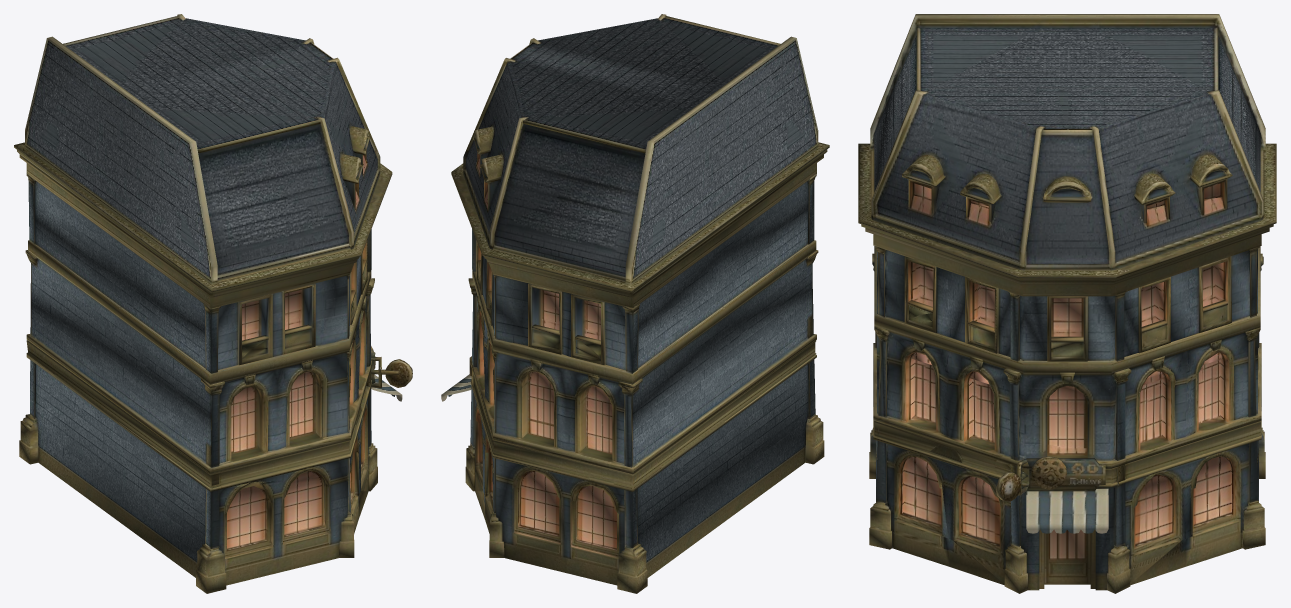
Rendered from tripo_convert_d98730f9-44a9-4977-a733-d89ec5ea03a1.fbx.
3 renders of one model, left to right at view 1: azimuth 30°, elevation 25°; view 2: azimuth 150°, elevation 25°; view 3: azimuth 270°, elevation 25°, orthographic. The views are drawn at different scales.
Visible parts, largest first — view 1: tripo_node_d98730f9; view 2: tripo_node_d98730f9; view 3: tripo_node_d98730f9.
Part boxes in pixels (x1,y1,x2,y2): tripo_node_d98730f9: (14, 14, 412, 593); tripo_node_d98730f9: (441, 14, 829, 593); tripo_node_d98730f9: (858, 14, 1276, 593).
Size of the model in its own units: 0.6504 by 0.998 by 0.8262.
1 material, 1 textured.
